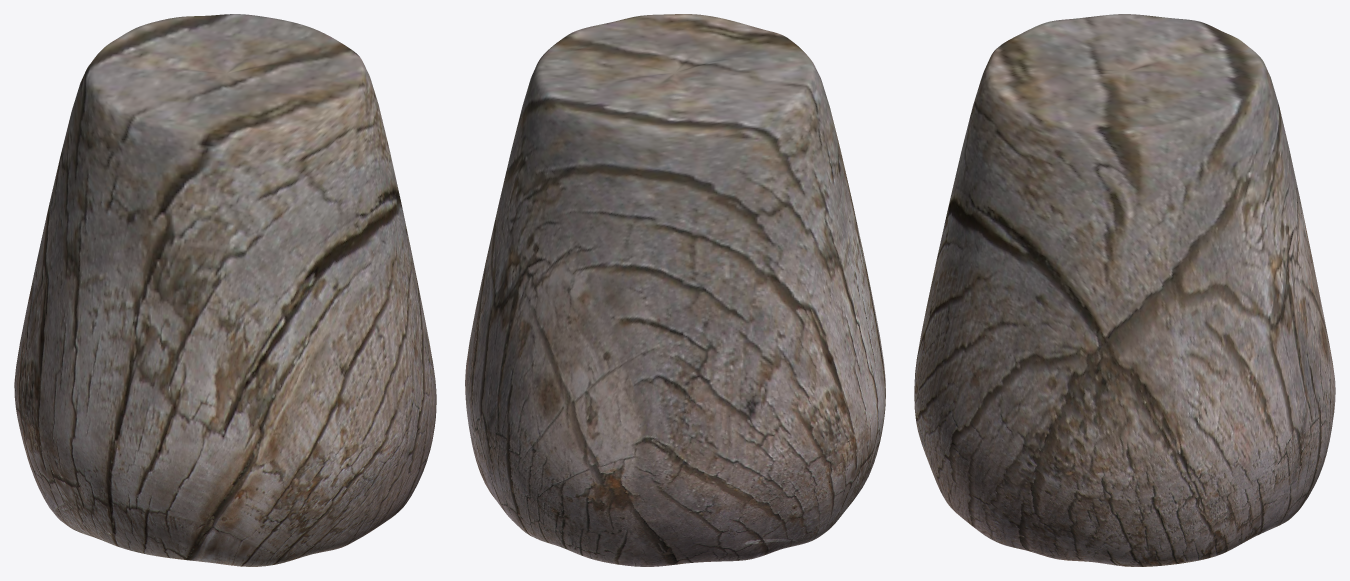
The model's file is wooden.obj.
3 views of the same model, side by side, from view 1: azimuth 30°, elevation 25°; view 2: azimuth 150°, elevation 25°; view 3: azimuth 270°, elevation 25° (orthographic).
Visible parts, largest first — view 1: Sphere; view 2: Sphere; view 3: Sphere.
Part boxes in pixels (box(x1,y1,x2,y2)): Sphere: box(14, 14, 436, 566); Sphere: box(465, 14, 885, 566); Sphere: box(914, 14, 1335, 566).
Size of the model in its own units: 2.01 by 2.22 by 2.
Materials: 1 (1 with a texture image).
